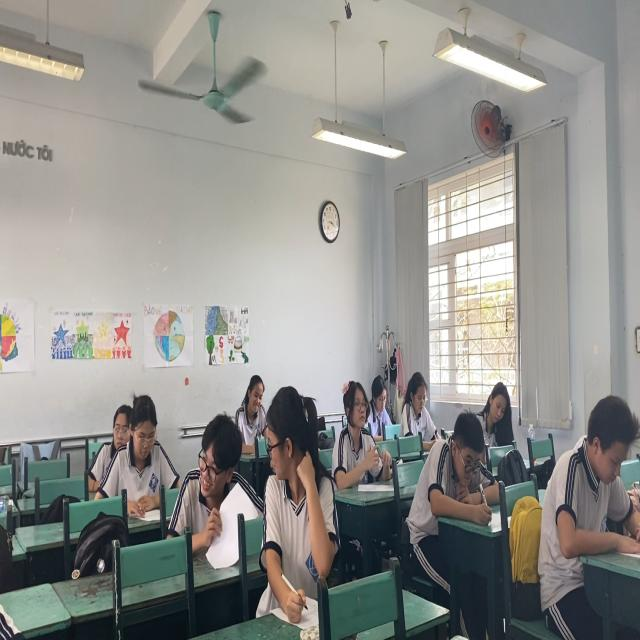cheating: (253, 388, 344, 603), (182, 409, 249, 519)
not_cheating: (539, 392, 640, 530), (422, 402, 490, 522), (105, 388, 169, 509), (329, 374, 387, 485), (475, 364, 516, 450), (399, 372, 438, 439), (238, 374, 265, 426)
